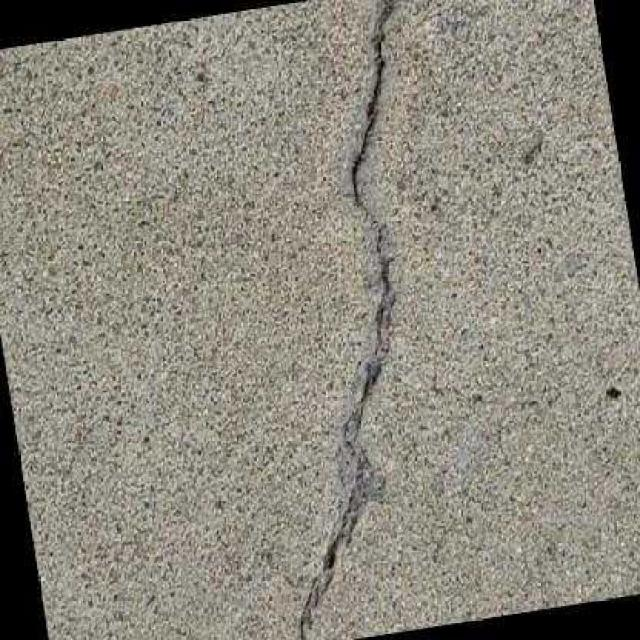D00: (291, 0, 392, 640)
